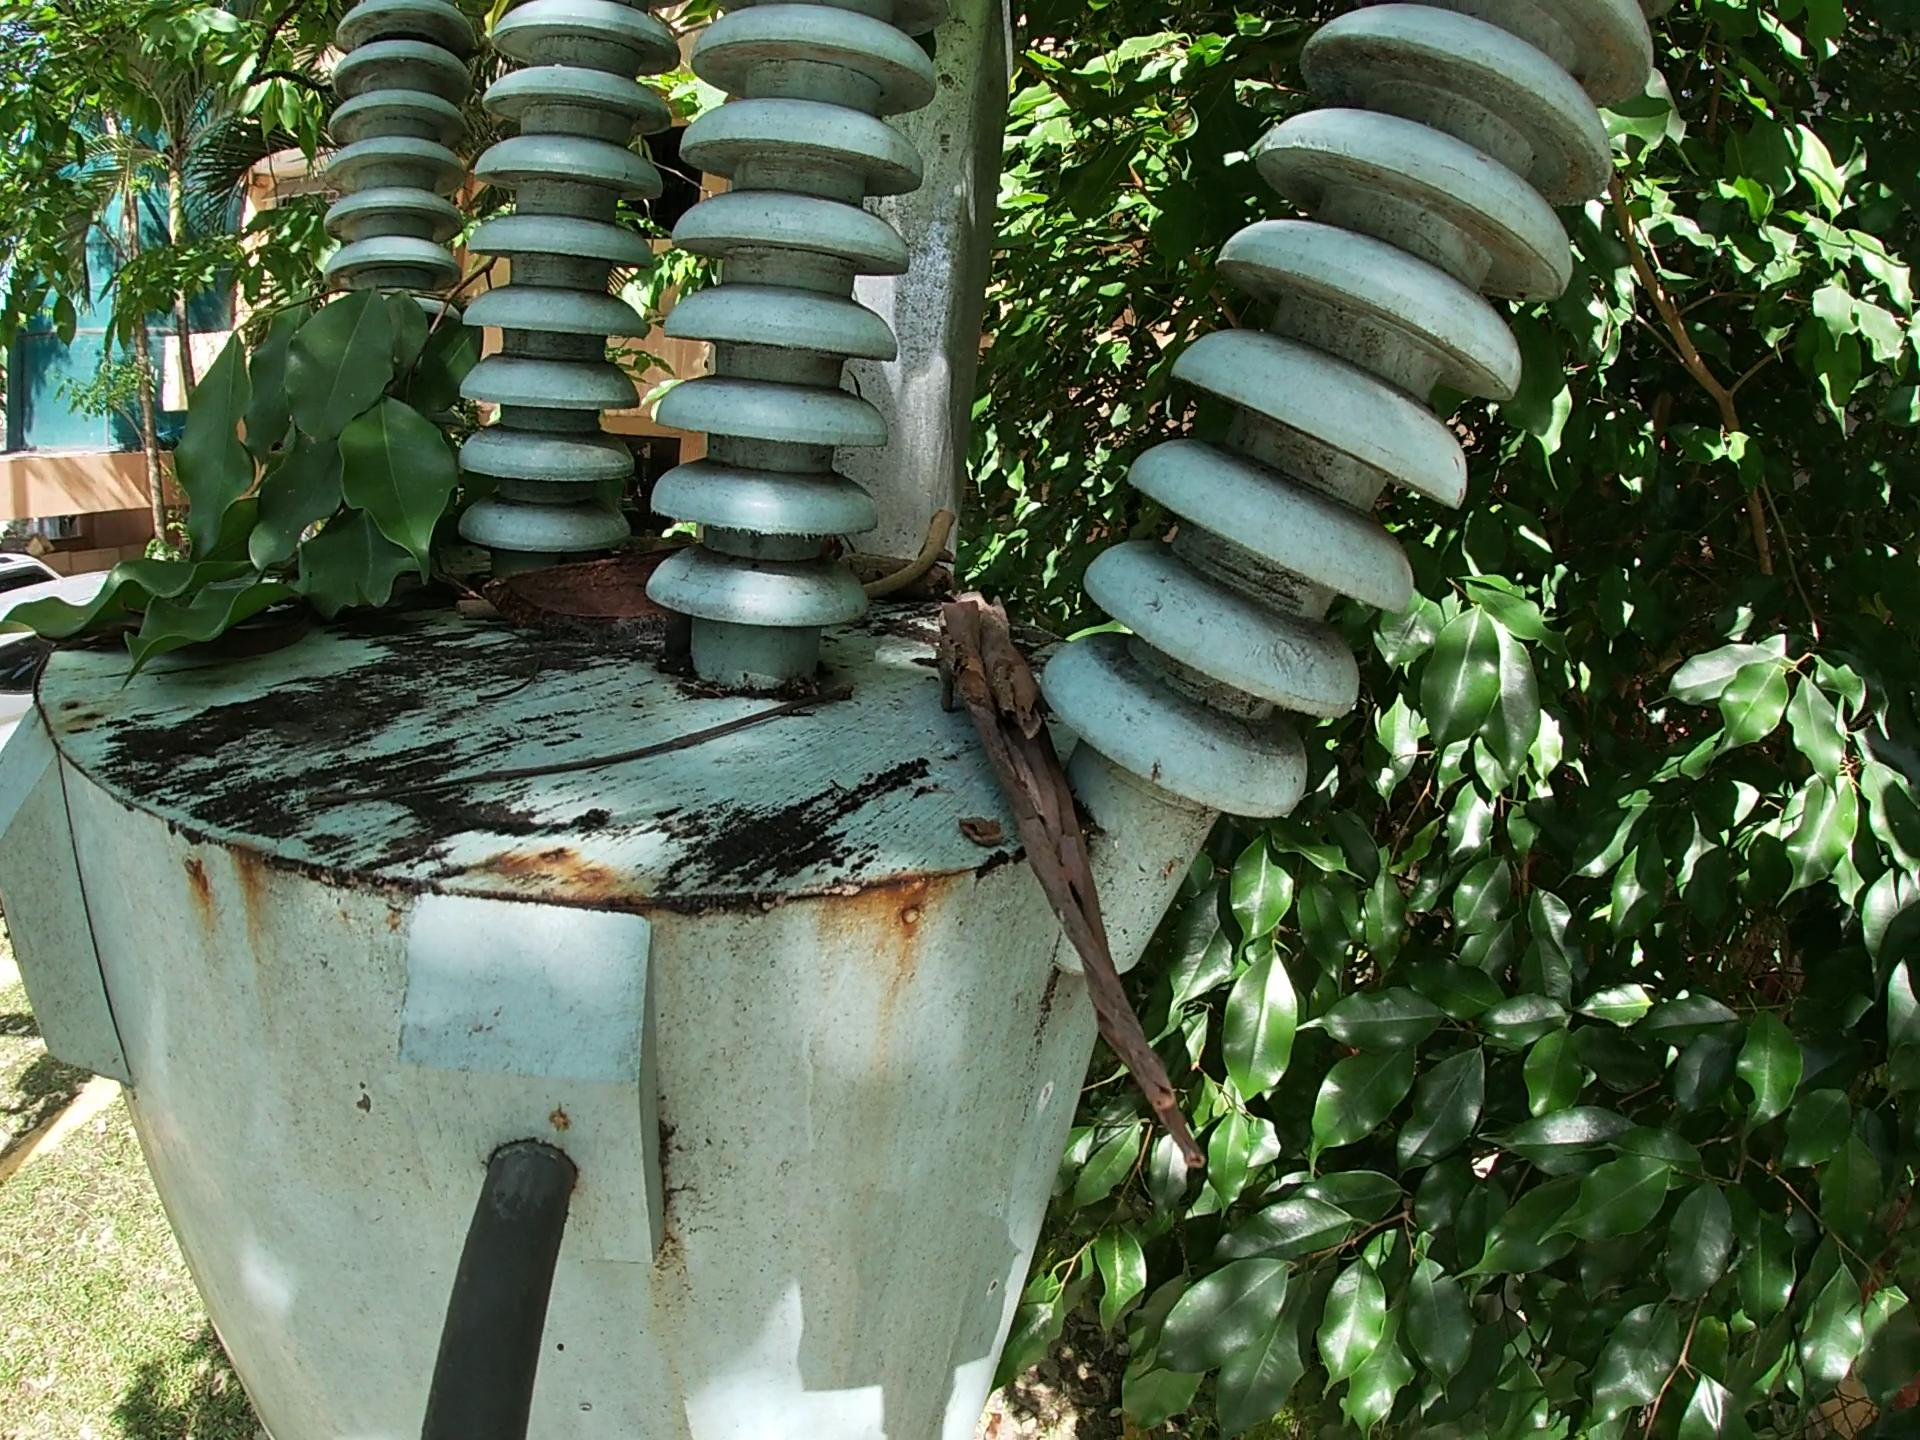branch with leaves: (2, 237, 509, 685)
mahogany fruit: (479, 538, 698, 650)
tree branch: (931, 582, 1229, 1190), (317, 688, 835, 827), (851, 510, 972, 619), (472, 613, 550, 725), (844, 543, 952, 588), (444, 597, 500, 625)
